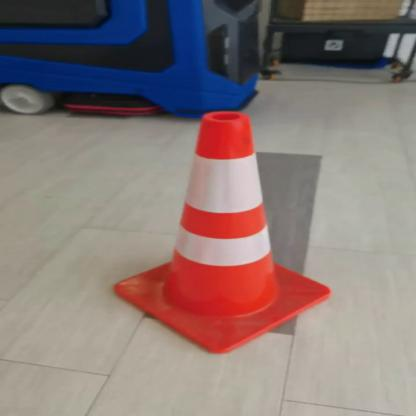cone: (100, 107, 337, 354)
